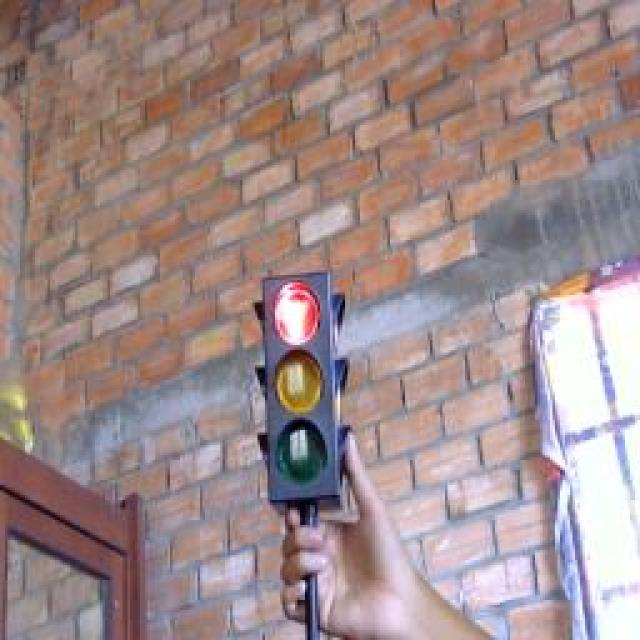-: (264, 278, 329, 353)
